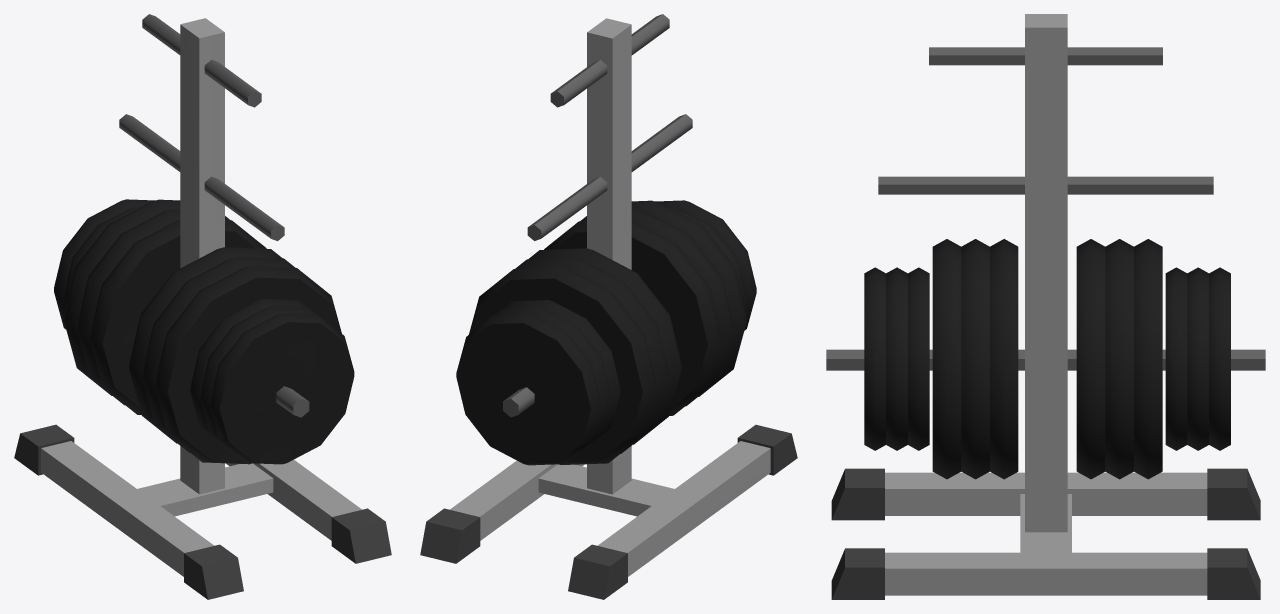
File: dumbbell_big_01.glb
3 renders of one model, left to right at view 1: azimuth 30°, elevation 25°; view 2: azimuth 150°, elevation 25°; view 3: azimuth 270°, elevation 25°, orthographic. The views are drawn at different scales.
Parts seen in each view (by area): view 1: training_item_002; view 2: training_item_002; view 3: training_item_002.
Part boxes in pixels (x1,y1,x2,y2): training_item_002: (14,14,391,599); training_item_002: (420,14,797,599); training_item_002: (826,14,1265,599).
Size of the model in its own units: 0.5291 by 1.28 by 0.9623.
Materials: 1 (1 with a texture image).
